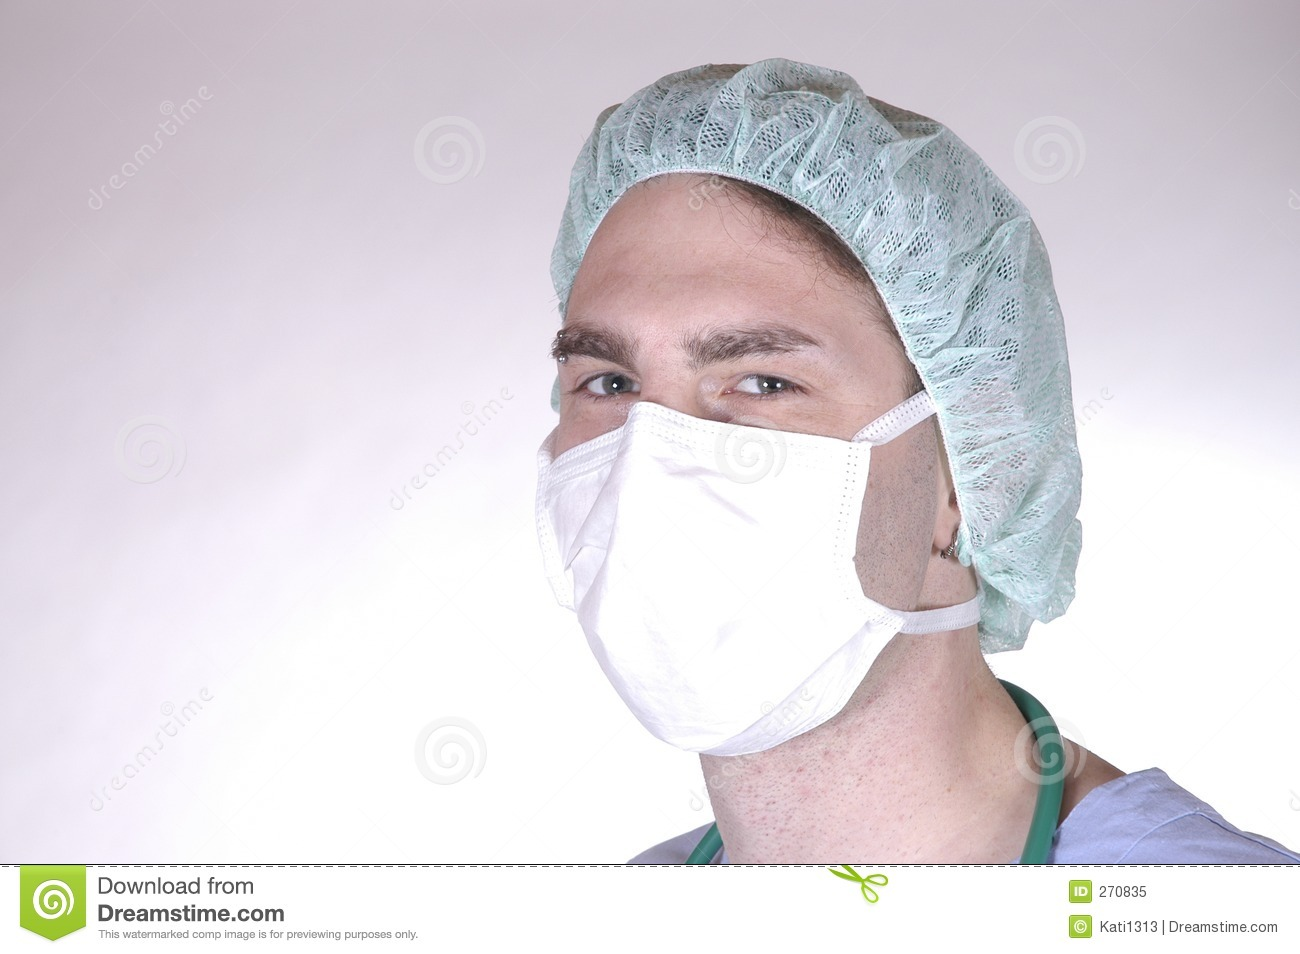mask: (532, 406, 920, 750)
